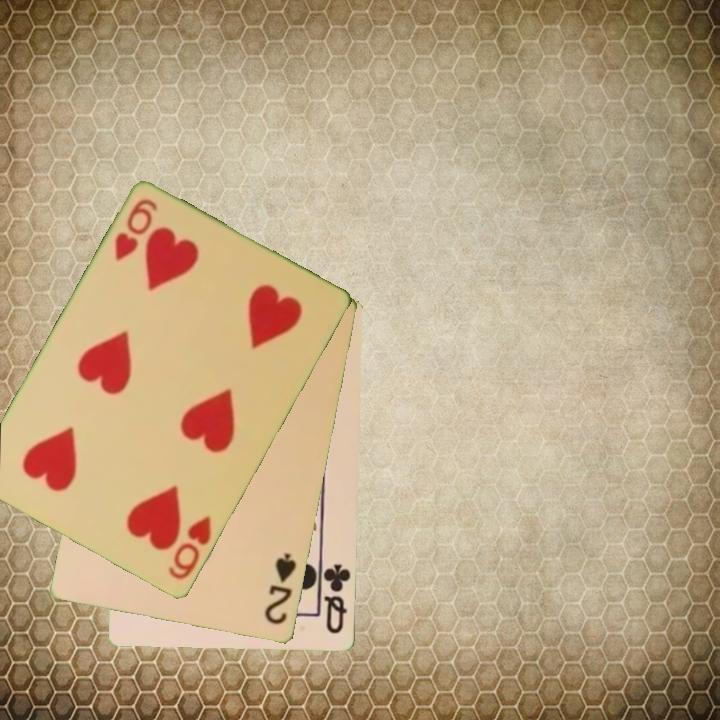2s: (261, 550, 300, 628)
6h: (164, 513, 215, 584), (111, 195, 161, 265)
Qc: (318, 557, 354, 637)
